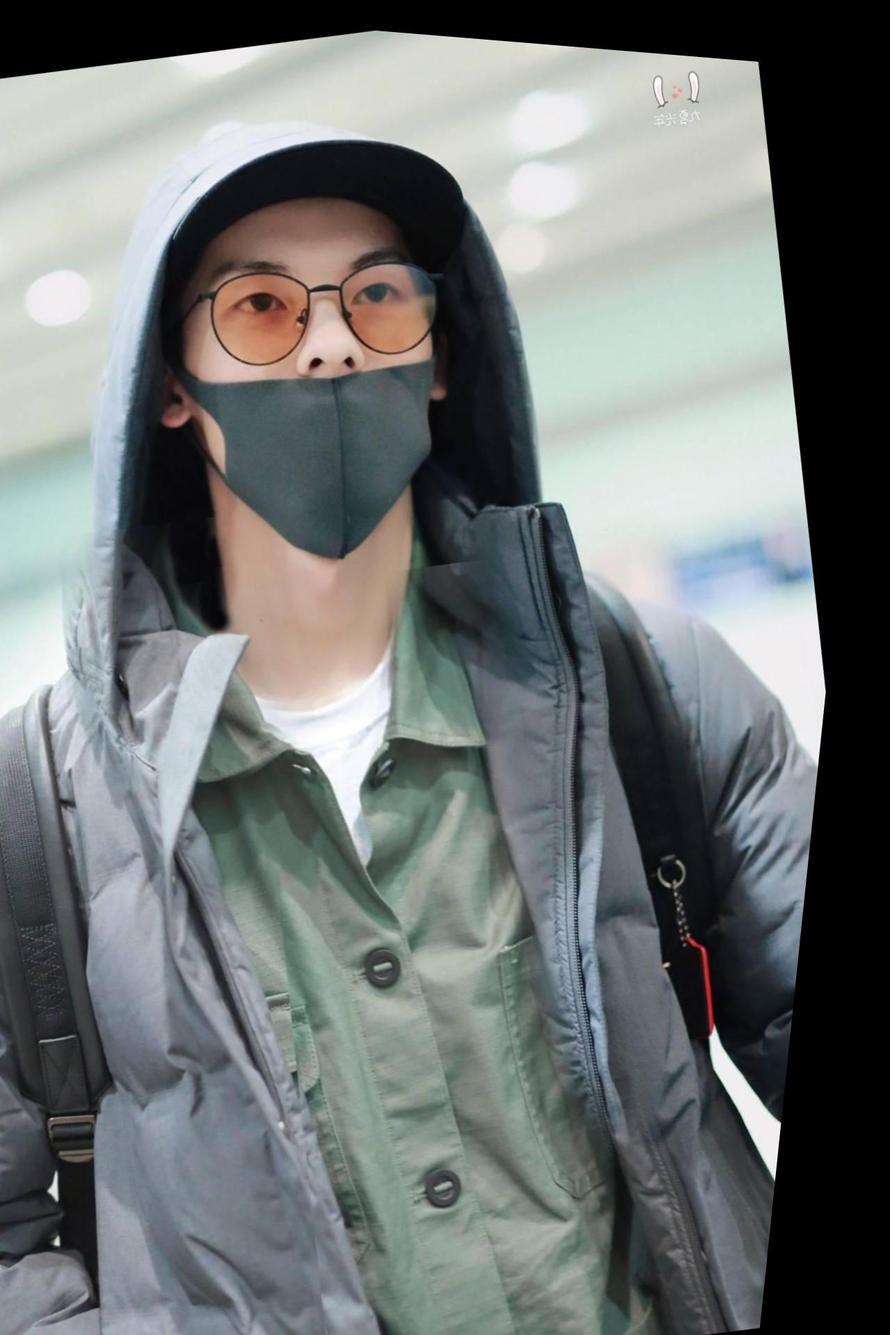WRONG: (166, 195, 491, 572)
